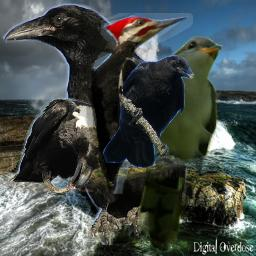Crow: (2, 3, 189, 245), (8, 96, 121, 196), (103, 55, 195, 169)
Cuckoo: (130, 36, 223, 251)
Woodpecker: (78, 13, 193, 194)
